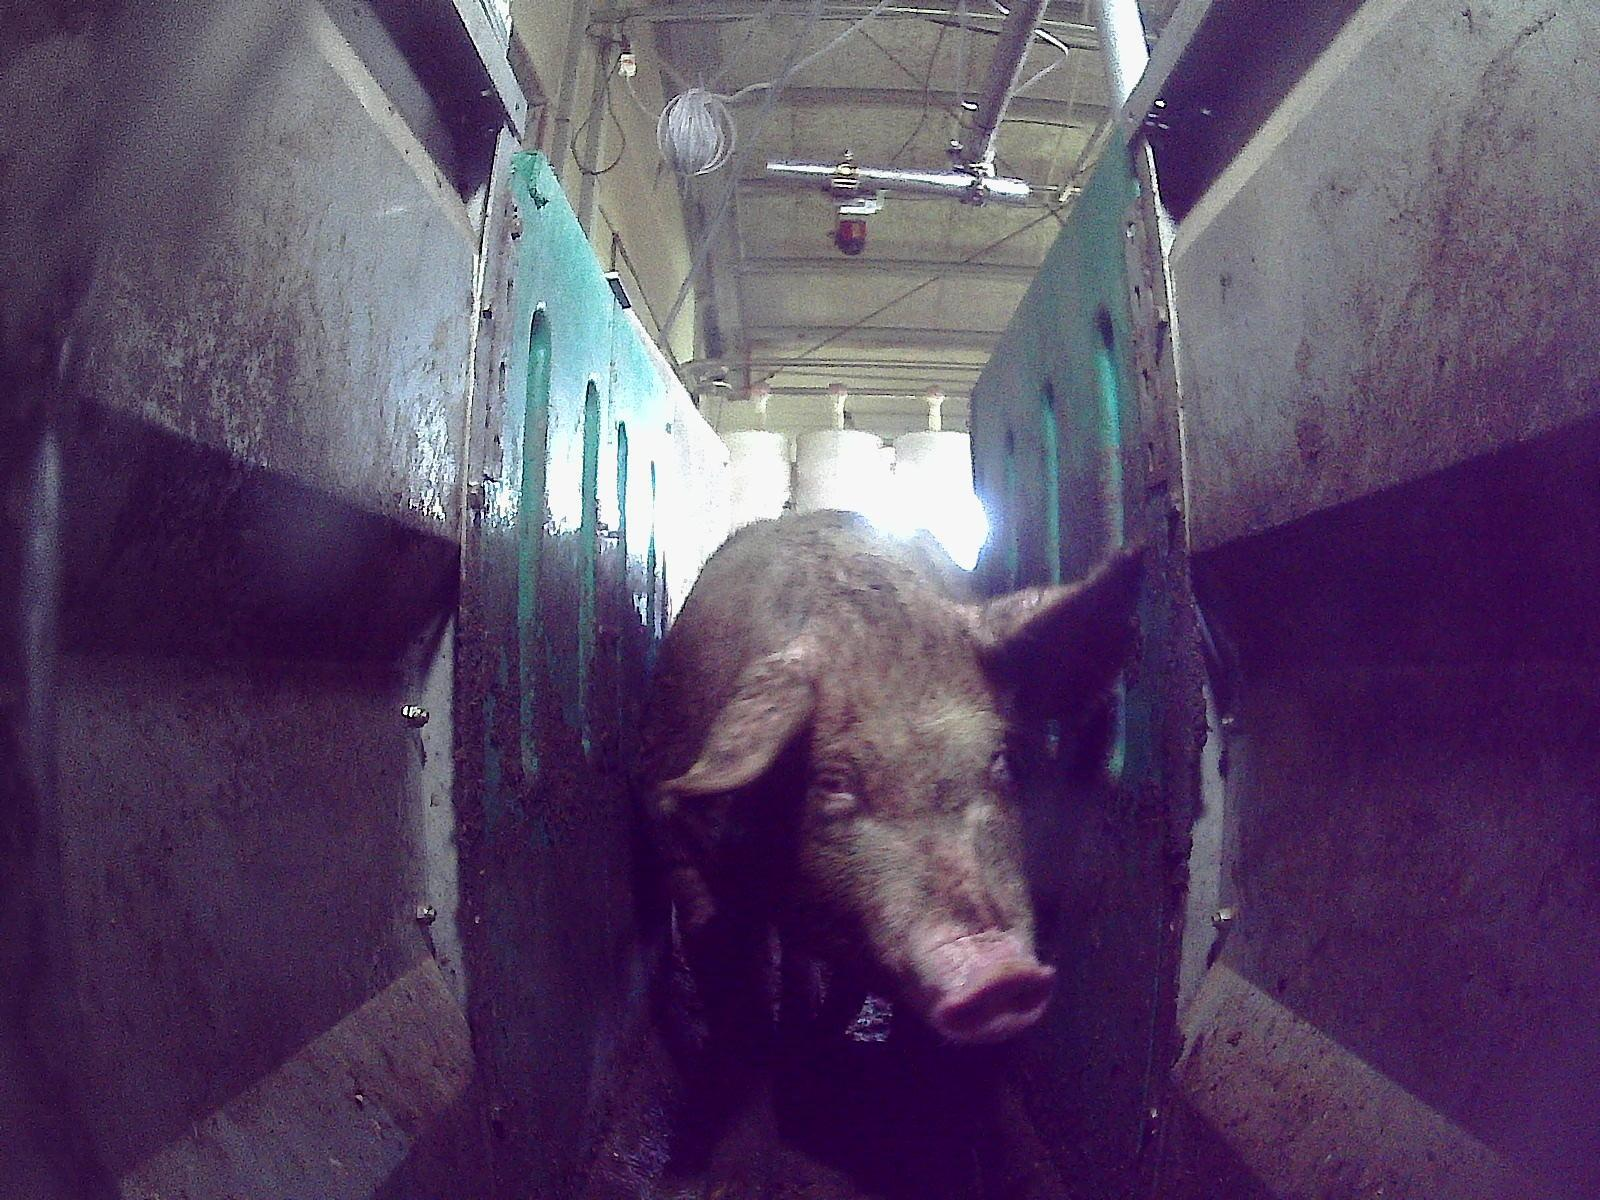Face: (753, 596, 1059, 1044)
